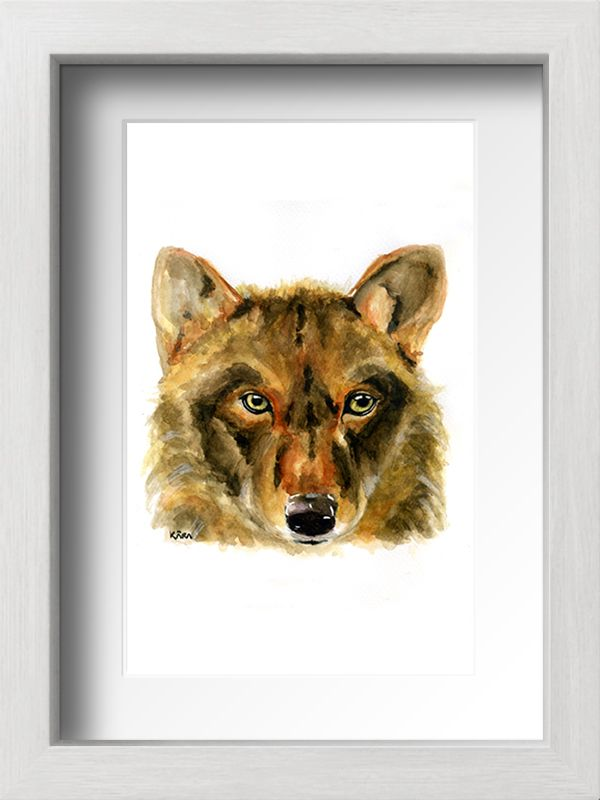Lobo: (132, 227, 468, 575)
